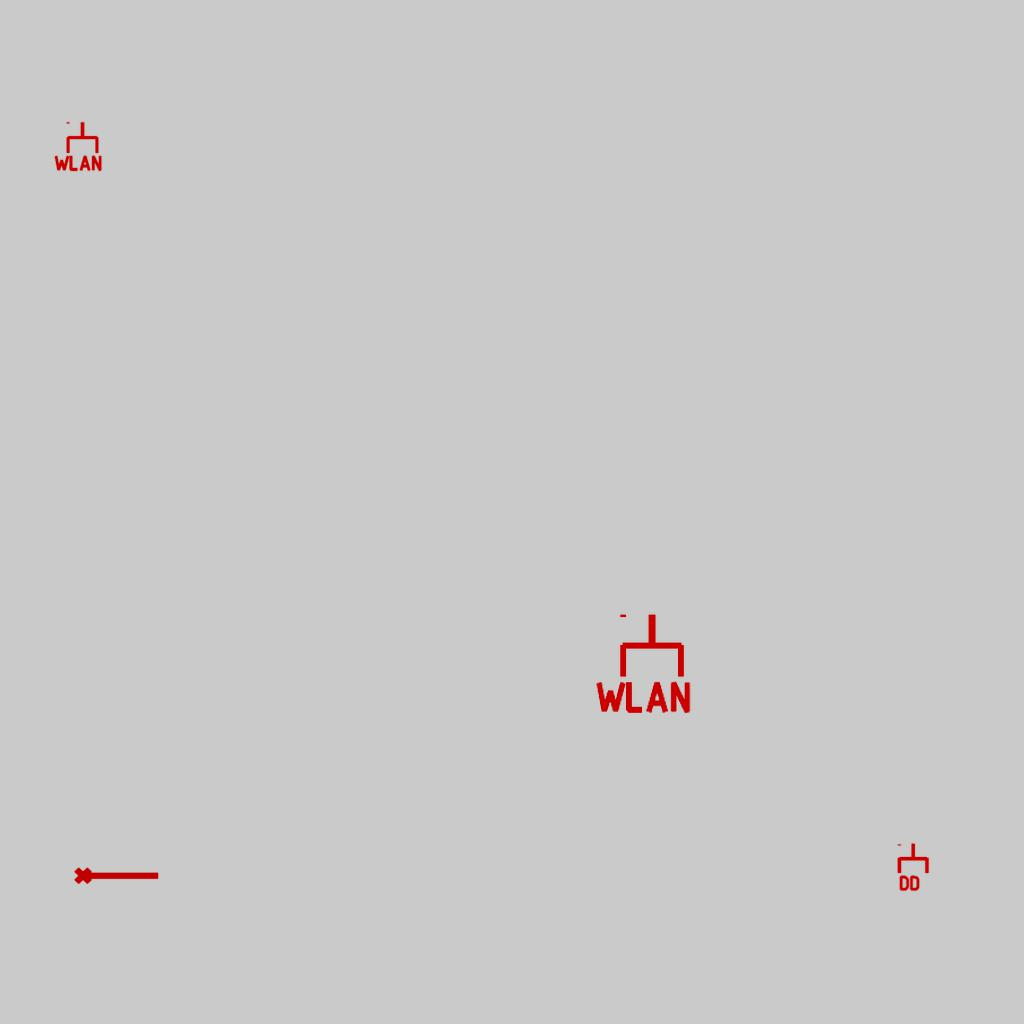ASR_Ansaugoeffnung: (73, 863, 161, 886)
Datenanschluss_zweifach: (897, 842, 931, 893)
WLAN: (591, 610, 695, 715), (52, 120, 104, 172)
